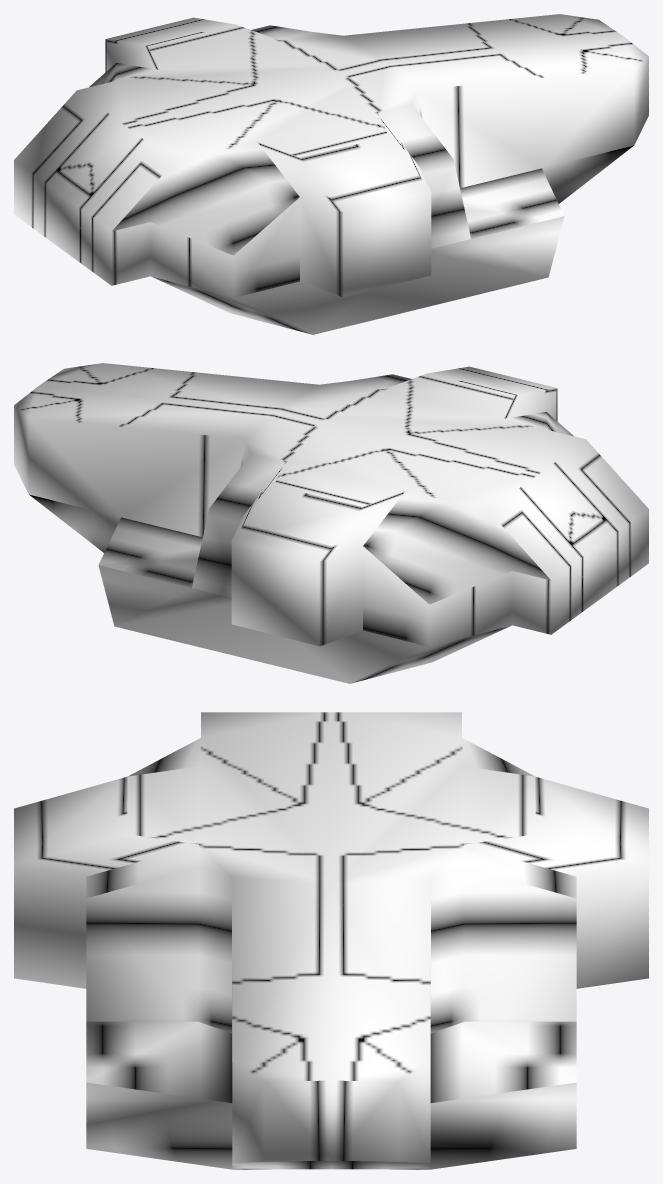
File: turmoben.obj
3 renders of one model, top to bottom at view 1: azimuth 30°, elevation 25°; view 2: azimuth 150°, elevation 25°; view 3: azimuth 270°, elevation 25°, orthographic. The views are drawn at different scales.
Parts seen in each view (by area): view 1: cube1_sep10; view 2: cube1_sep10; view 3: cube1_sep10.
Boxes of the visible parts, box(x1,y1,x2,y2) form: cube1_sep10: box(14, 14, 648, 334); cube1_sep10: box(14, 363, 648, 683); cube1_sep10: box(14, 712, 648, 1169).
Size of the model in its own units: 0.3881 by 0.1097 by 0.2845.
